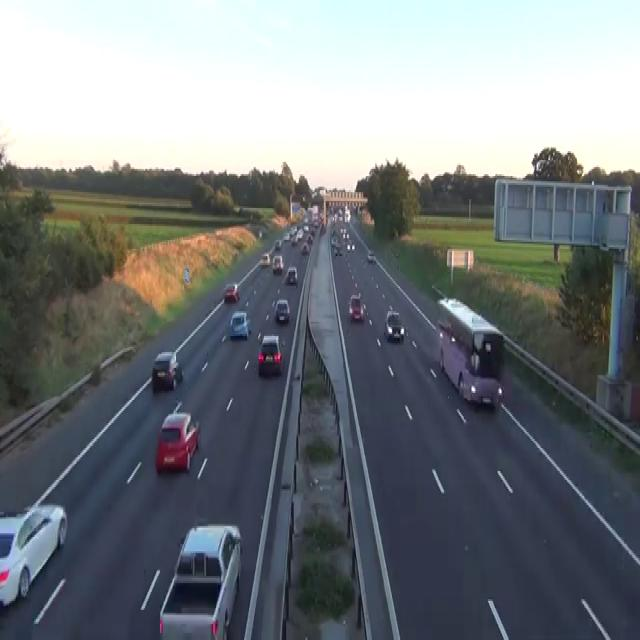Car: (159, 523, 241, 638), (0, 501, 67, 608), (174, 523, 241, 585), (155, 411, 200, 473), (152, 350, 183, 391), (257, 334, 283, 375), (384, 309, 404, 342), (229, 311, 251, 340), (348, 292, 366, 322), (275, 298, 290, 322), (223, 283, 239, 302), (272, 254, 283, 272), (287, 266, 297, 284), (367, 249, 376, 263), (261, 252, 270, 266), (300, 242, 309, 254), (346, 240, 355, 251), (331, 237, 340, 246), (274, 238, 281, 249), (334, 247, 342, 256), (344, 210, 350, 222), (290, 235, 297, 245), (296, 228, 303, 238), (283, 231, 289, 242), (312, 218, 319, 226), (340, 228, 346, 236), (303, 224, 309, 231), (338, 208, 342, 217), (258, 230, 262, 238), (351, 243, 355, 250), (346, 242, 350, 249)
Truck: (436, 295, 504, 409)
